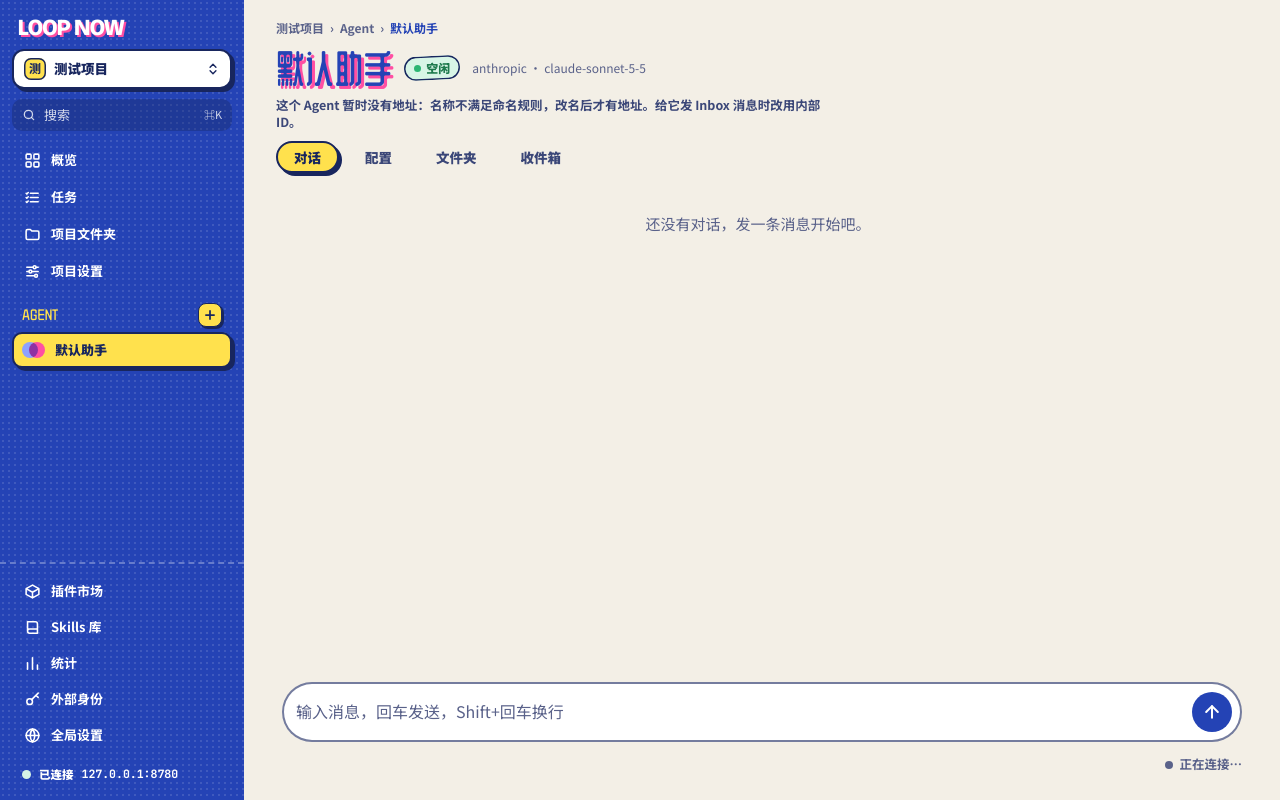
Test: 新建项目 › 预检命名规则；重名时在名称旁说明并保留内容；成功后进入新项目的空 Agent 页
The width and height of the screenshot is (1280, 800).
Click the button with aria-label "切换范围，当前：测试项目": {"x": 122, "y": 69} [12,49,232,89]
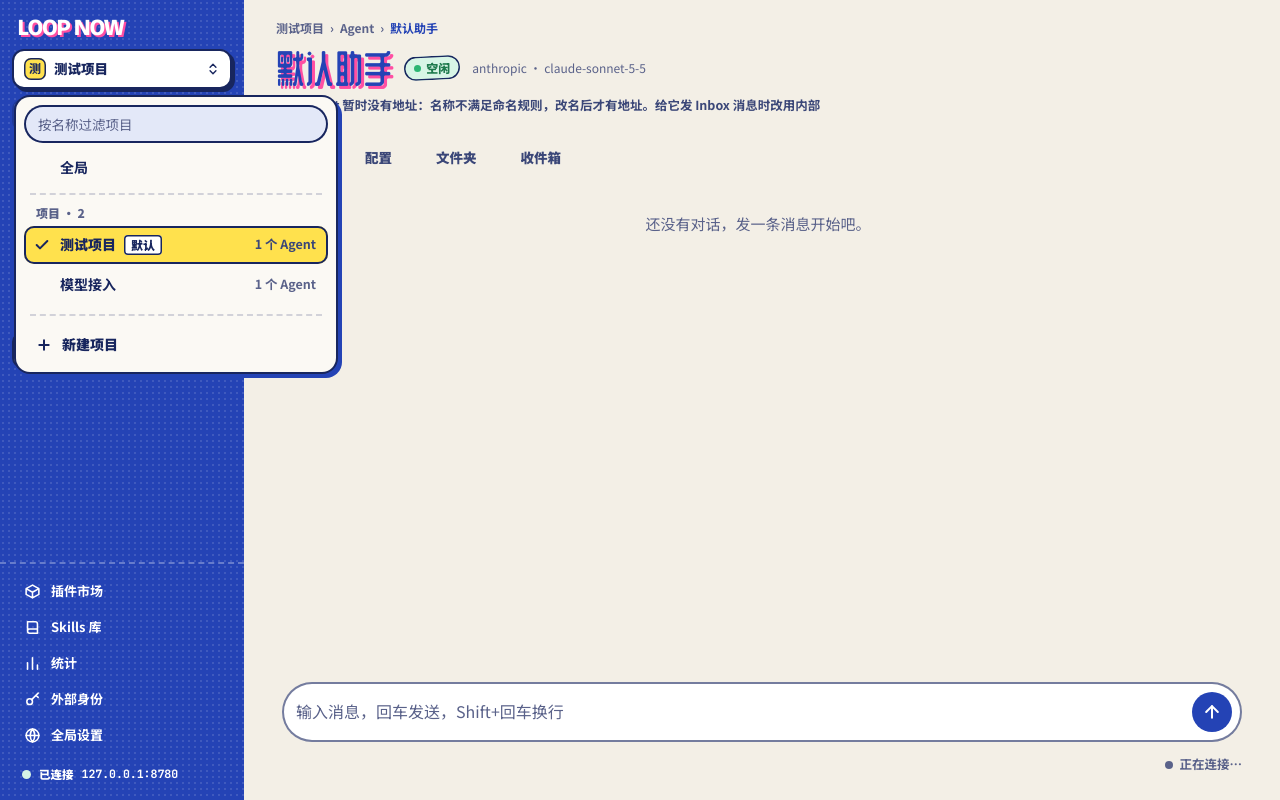
Click the button "新建项目": {"x": 90, "y": 344} [24,326,328,364]
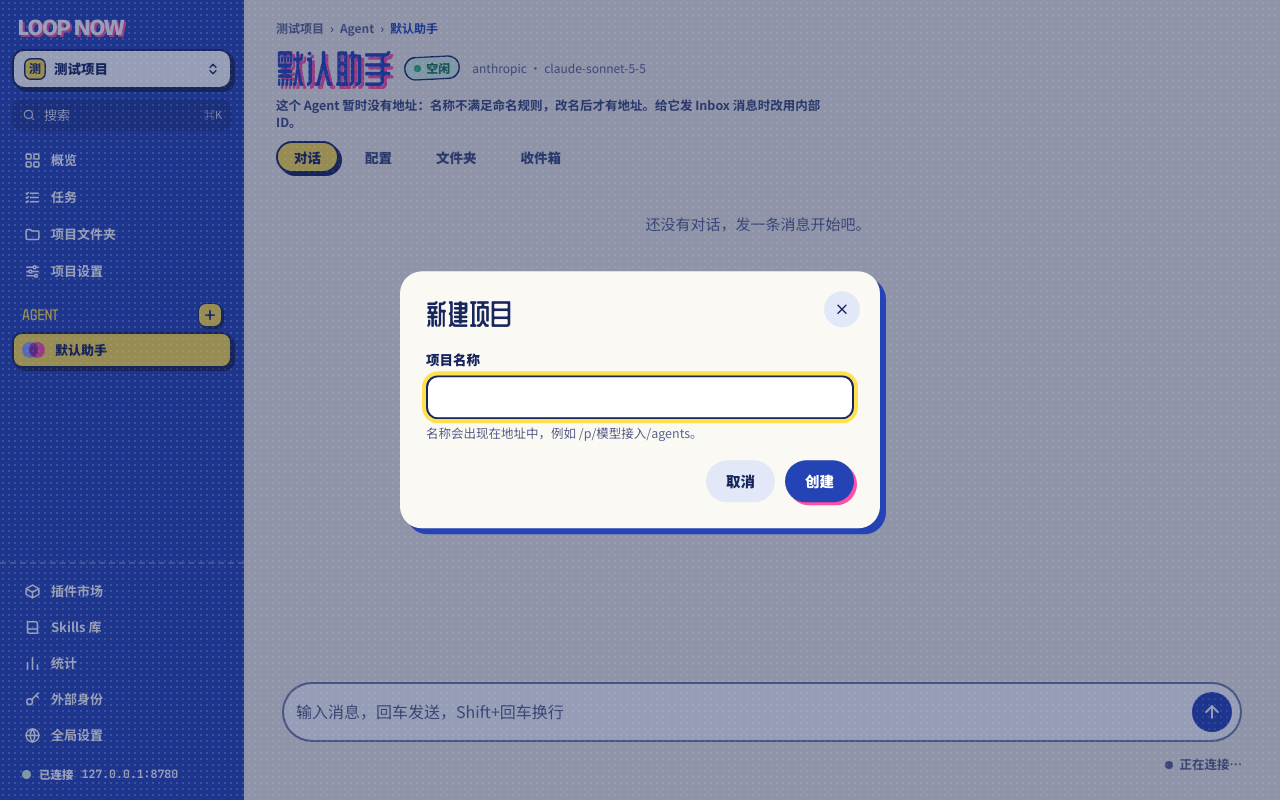
In the field labelled "项目名称": {"x": 640, "y": 398} [426,376,854,420], type "a/b"
Click the button "创建": {"x": 820, "y": 482} [785,461,854,503]
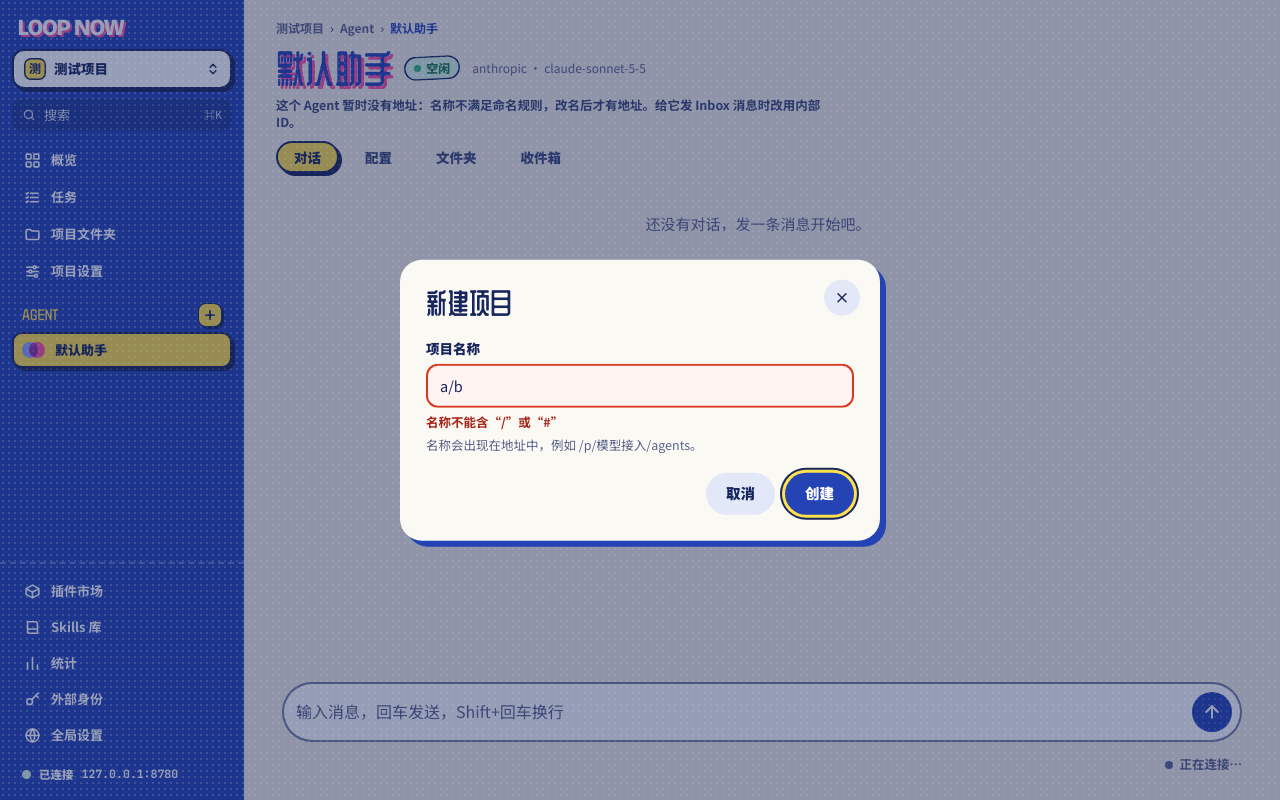
Result: the text "名称不能含“/”或“#”" is shown at [426,414,563,430]
Replace the text in the field labelled "项目名称" with "模型接入": {"x": 640, "y": 386} [426,364,854,408]
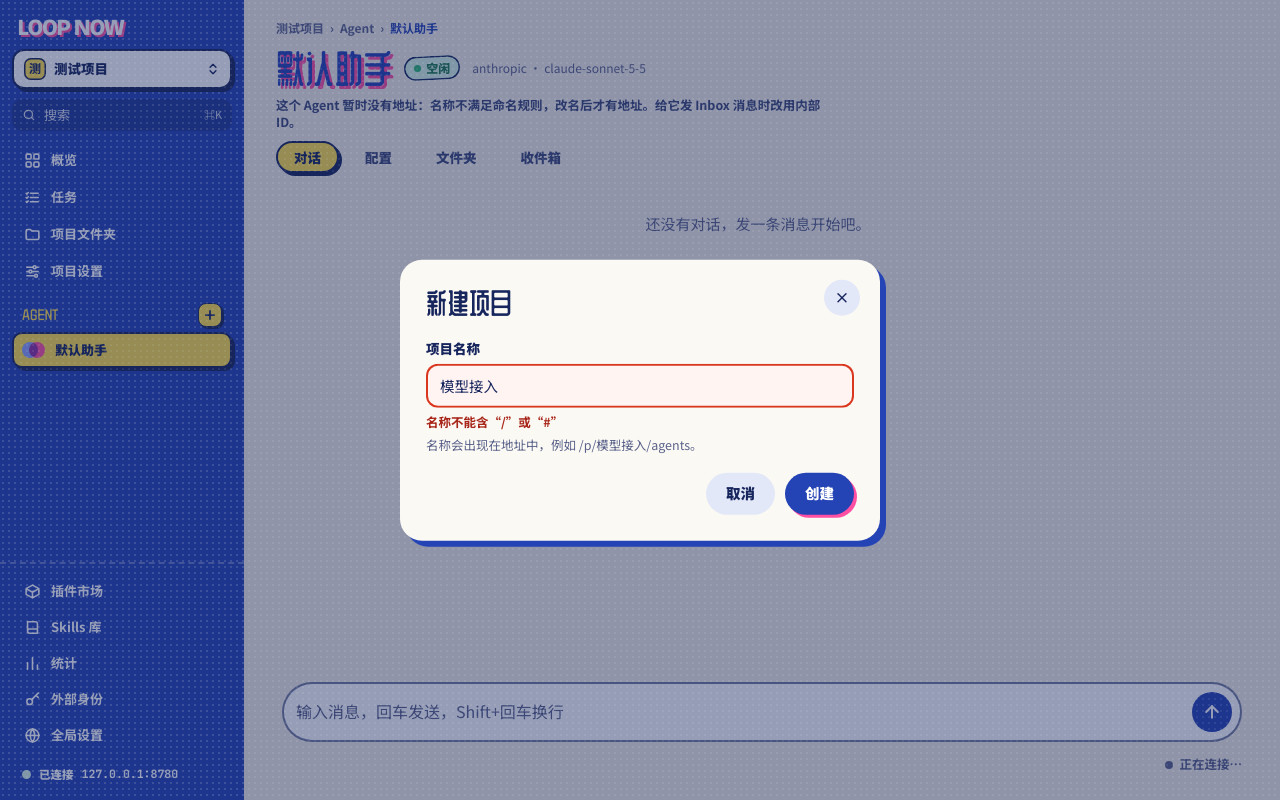
Click the button "创建": {"x": 820, "y": 493} [785,472,854,514]
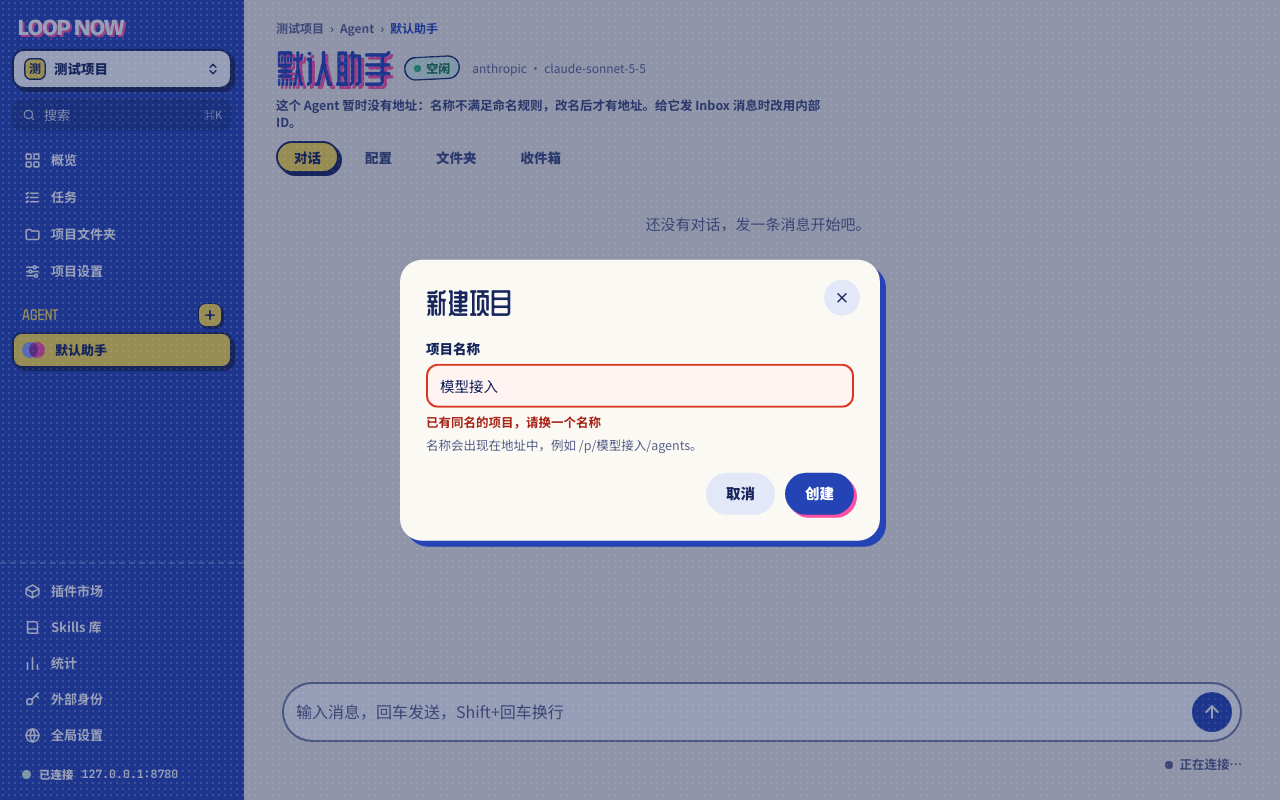
Result: the text "已有同名的项目，请换一个名称" is shown at [426,414,601,430]
Replace the text in the field labelled "项目名称" with "新项目": {"x": 640, "y": 386} [426,364,854,408]
Click the button "创建": {"x": 820, "y": 493} [785,472,854,514]
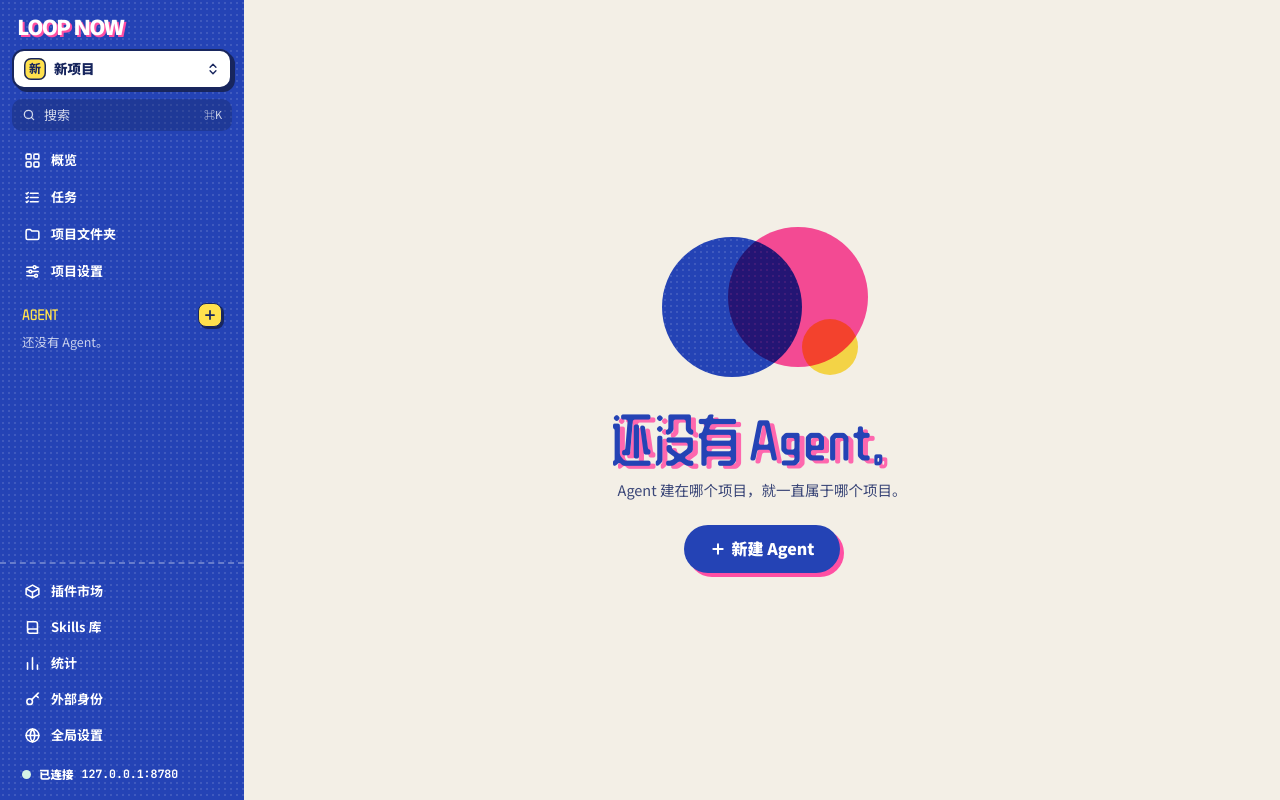
Result: the element "还没有 Agent。" is shown at [610,226,914,574]
